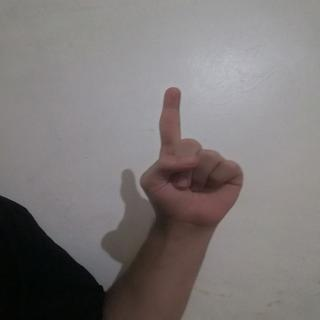BAA: (132, 84, 252, 242)
